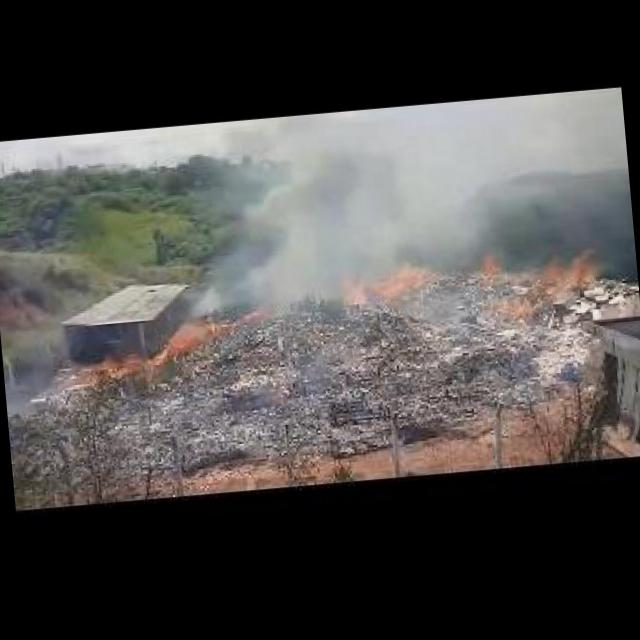fire: (98, 318, 228, 382), (345, 262, 429, 304), (541, 244, 600, 285), (492, 292, 536, 320), (481, 252, 513, 276)
smoke: (218, 110, 487, 318), (1, 340, 49, 442)
